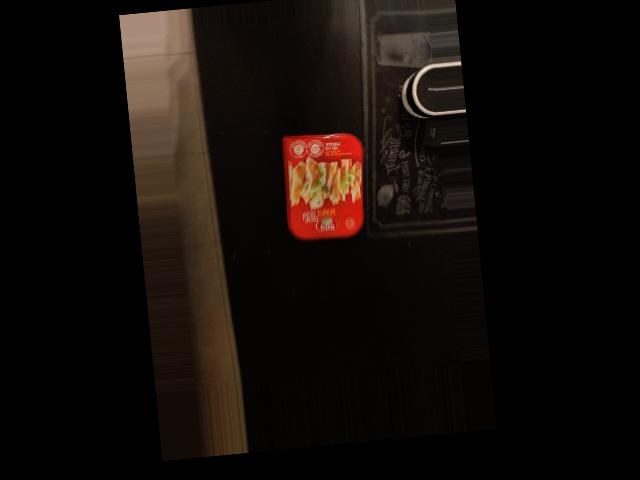cheese: (279, 124, 371, 245)
